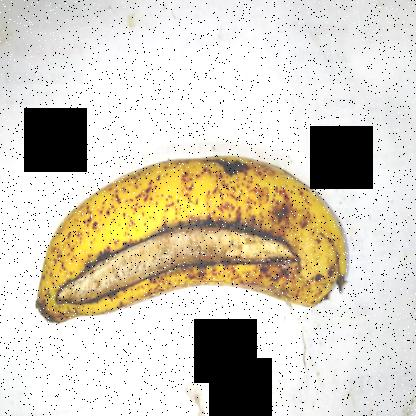ripe: (16, 140, 353, 348)
rotten: (57, 205, 296, 320)
